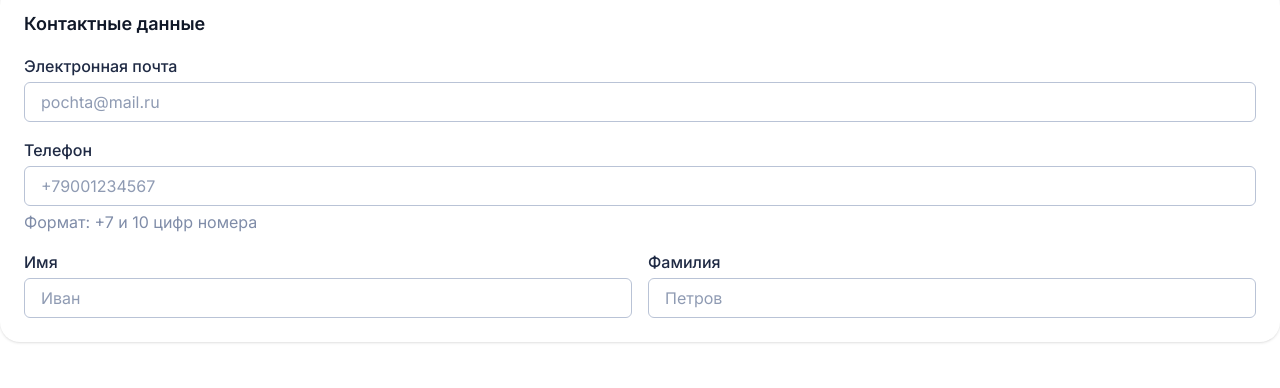
ContactSection › Валидация Имени и Фамилии › должен показывать ошибку для имени < 2 символов
Type "А" into the field labelled "Имя" at {"x": 328, "y": 298}, box [24,278,632,318]
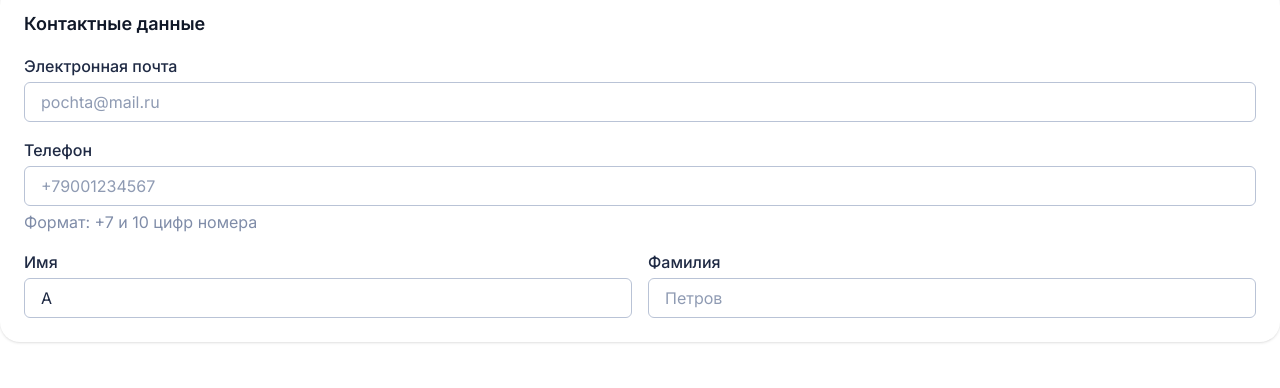
Leave the field labelled "Имя", box [24,278,632,318]
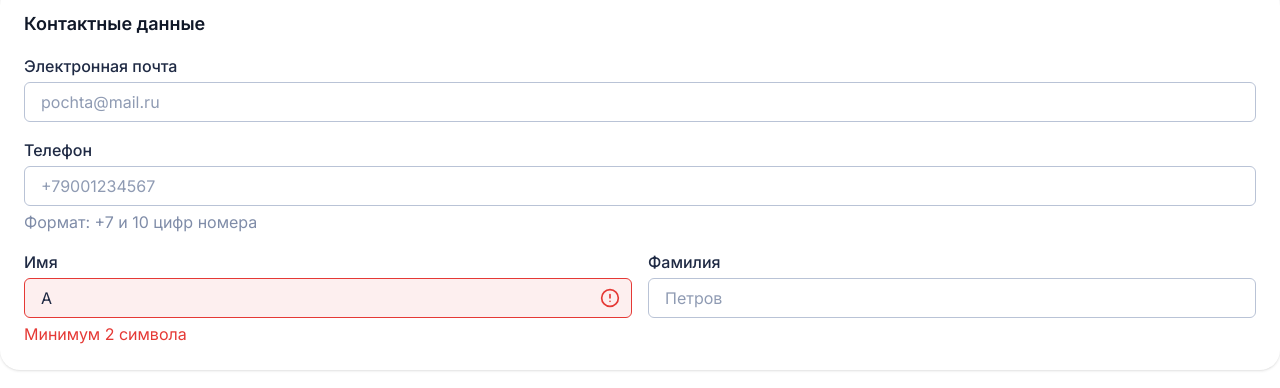
Result: the text "Минимум 2 символа" is shown at [24,324,187,344]
